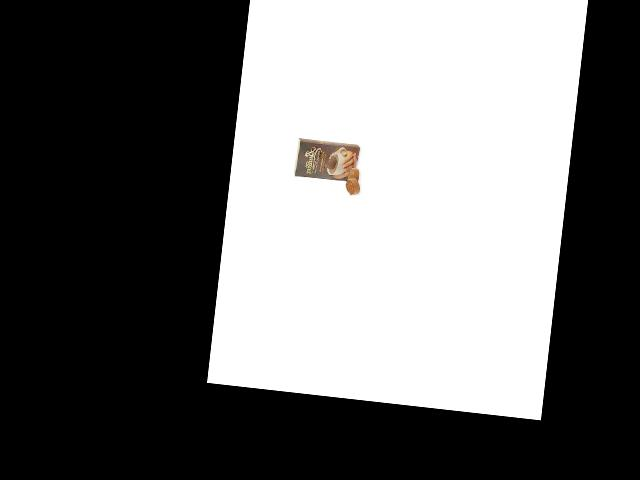chocolate: (291, 135, 362, 188)
